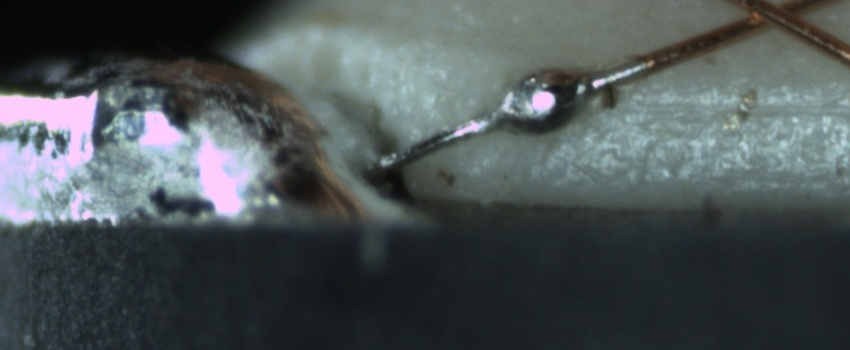CL: (731, 0, 815, 34)
DL: (629, 73, 850, 137)
TB: (500, 68, 587, 133)
TS: (367, 57, 650, 177)
TTCW: (372, 30, 709, 175)
